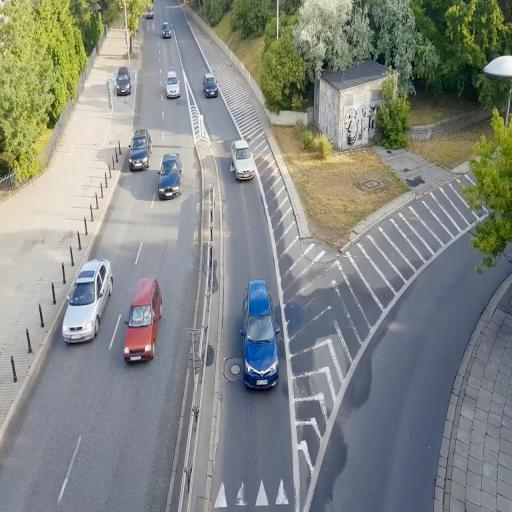vehicle: (62, 260, 114, 344), (242, 278, 279, 390), (242, 279, 279, 390), (122, 276, 162, 365), (158, 153, 182, 199), (128, 130, 151, 172), (231, 140, 254, 182), (114, 68, 132, 96), (165, 70, 181, 100), (202, 74, 218, 97), (162, 22, 173, 39)
